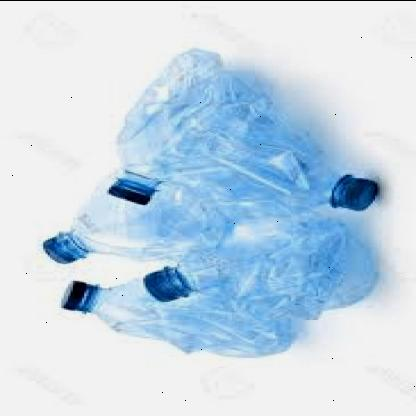Plastic Bottle: (103, 48, 276, 204), (60, 277, 292, 357), (40, 185, 108, 267)
